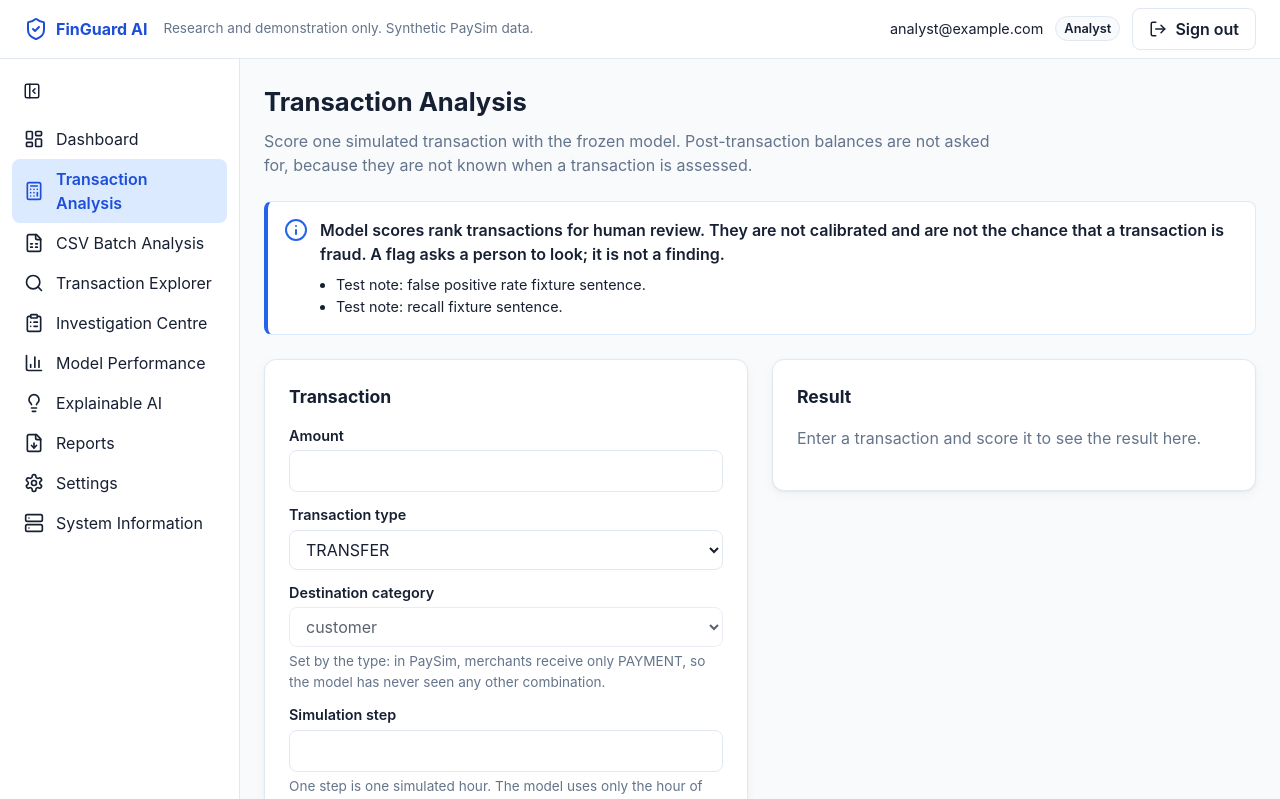
it: transaction analysis › sends exactly the four inputs and shows the result with its explanation
The image size is (1280, 799).
Type "9000000" into the field labelled "Amount" at (506, 471), box [289, 450, 723, 492]
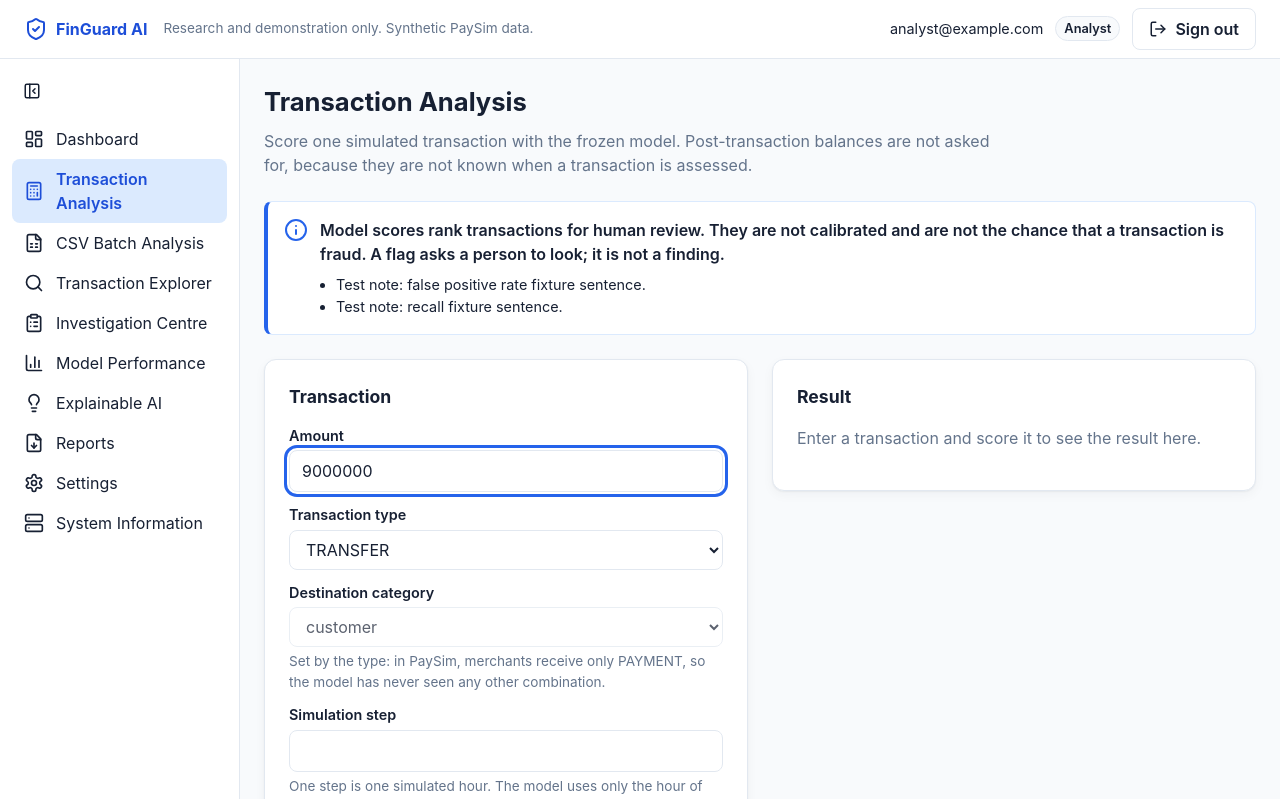
Select "TRANSFER" in the dropdown labelled "Transaction type" at (506, 550), box [289, 530, 723, 570]
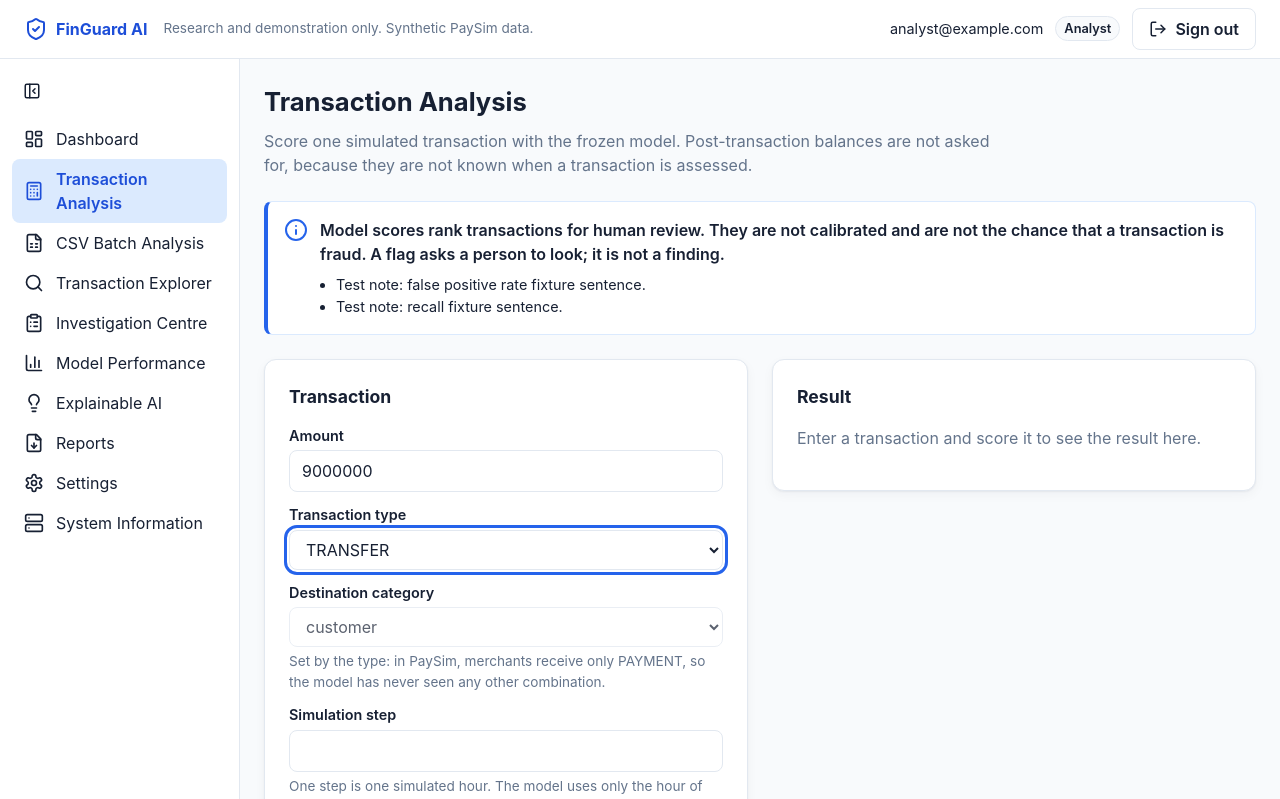
Type "5" into the field labelled "Simulation step" at (506, 751), box [289, 730, 723, 772]
(page scrolled)
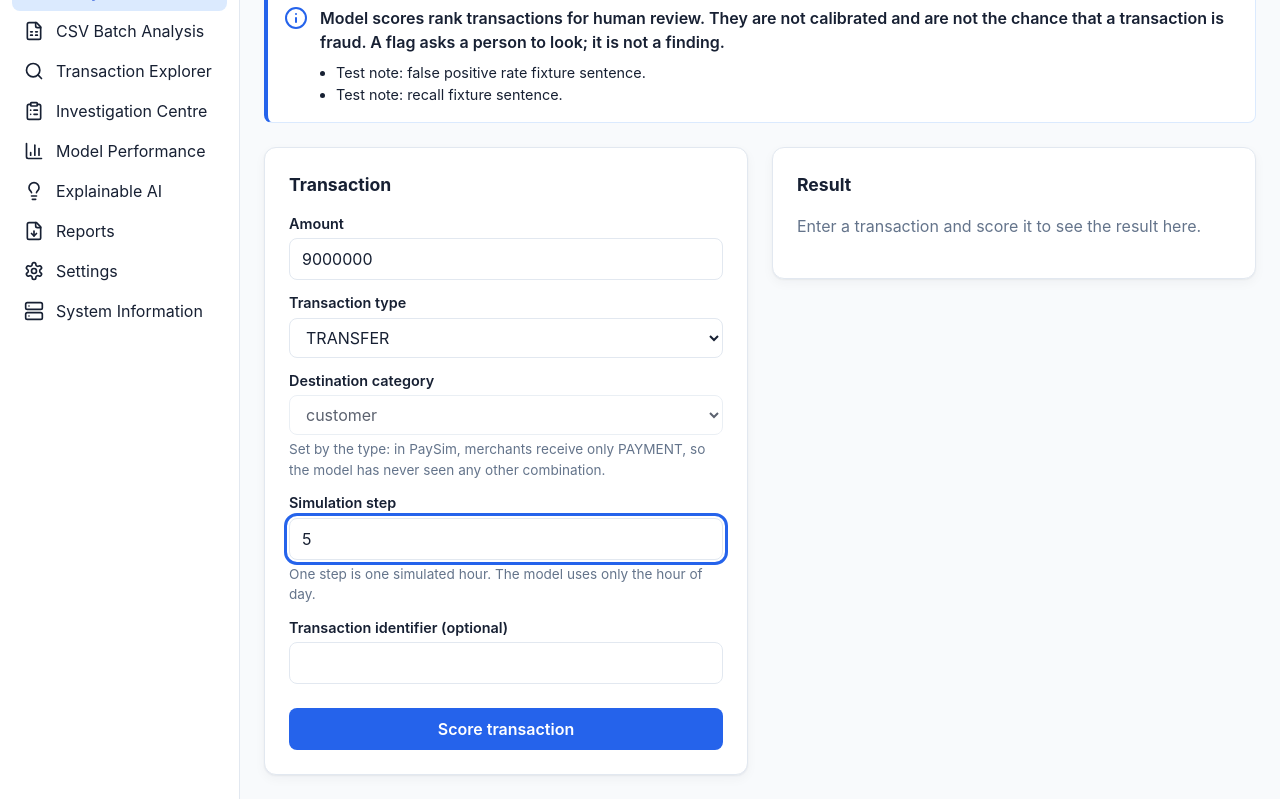
Click the button "Score transaction" at (506, 729), box [289, 708, 723, 750]
(page scrolled)
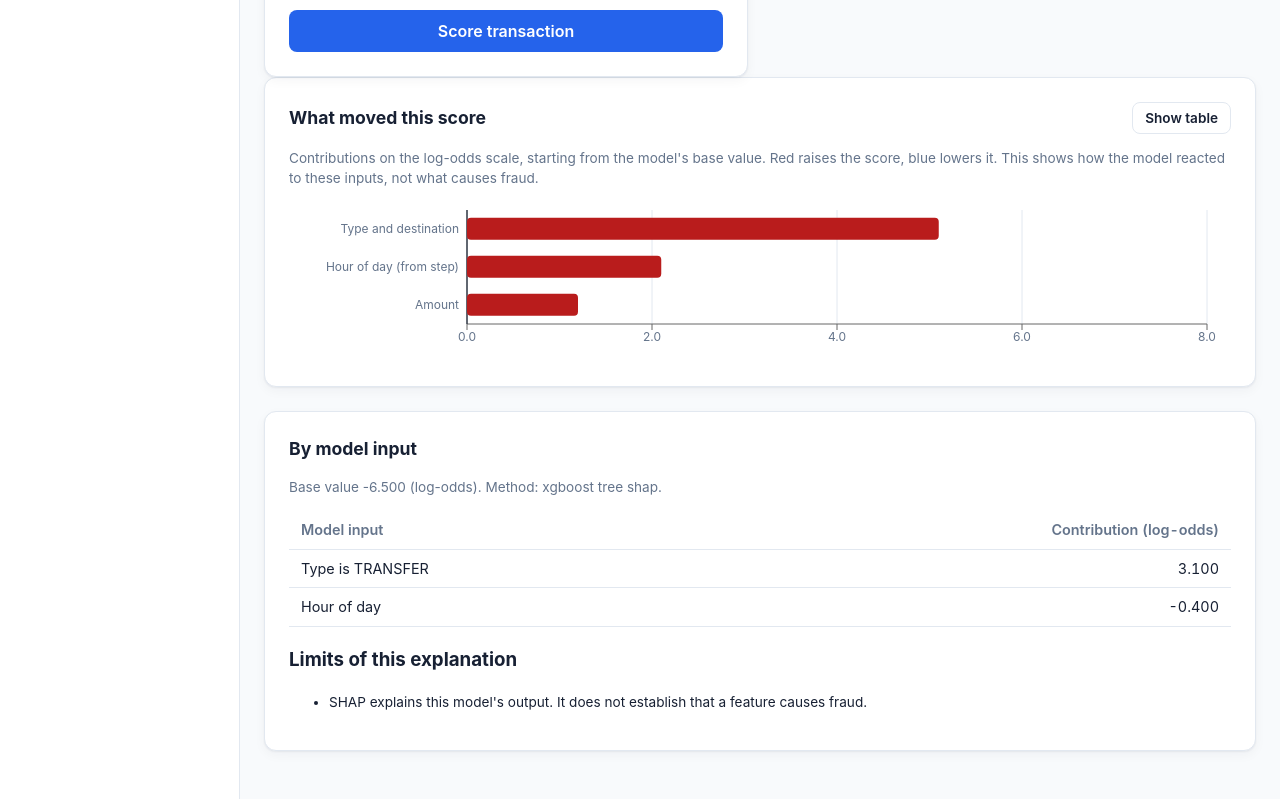
expect the heading "What moved this score" is shown: met, box [289, 105, 486, 131]
expect the list item "does not establish" is shown: met, box [329, 694, 867, 710]
